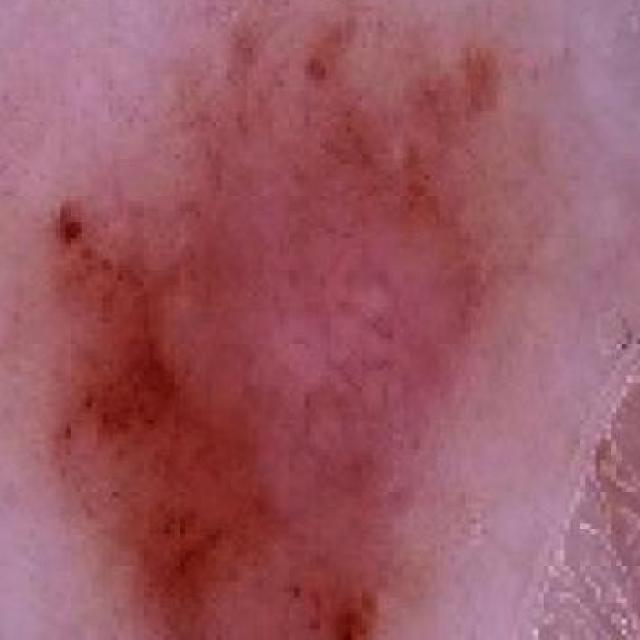MEL: (0, 0, 555, 640)
